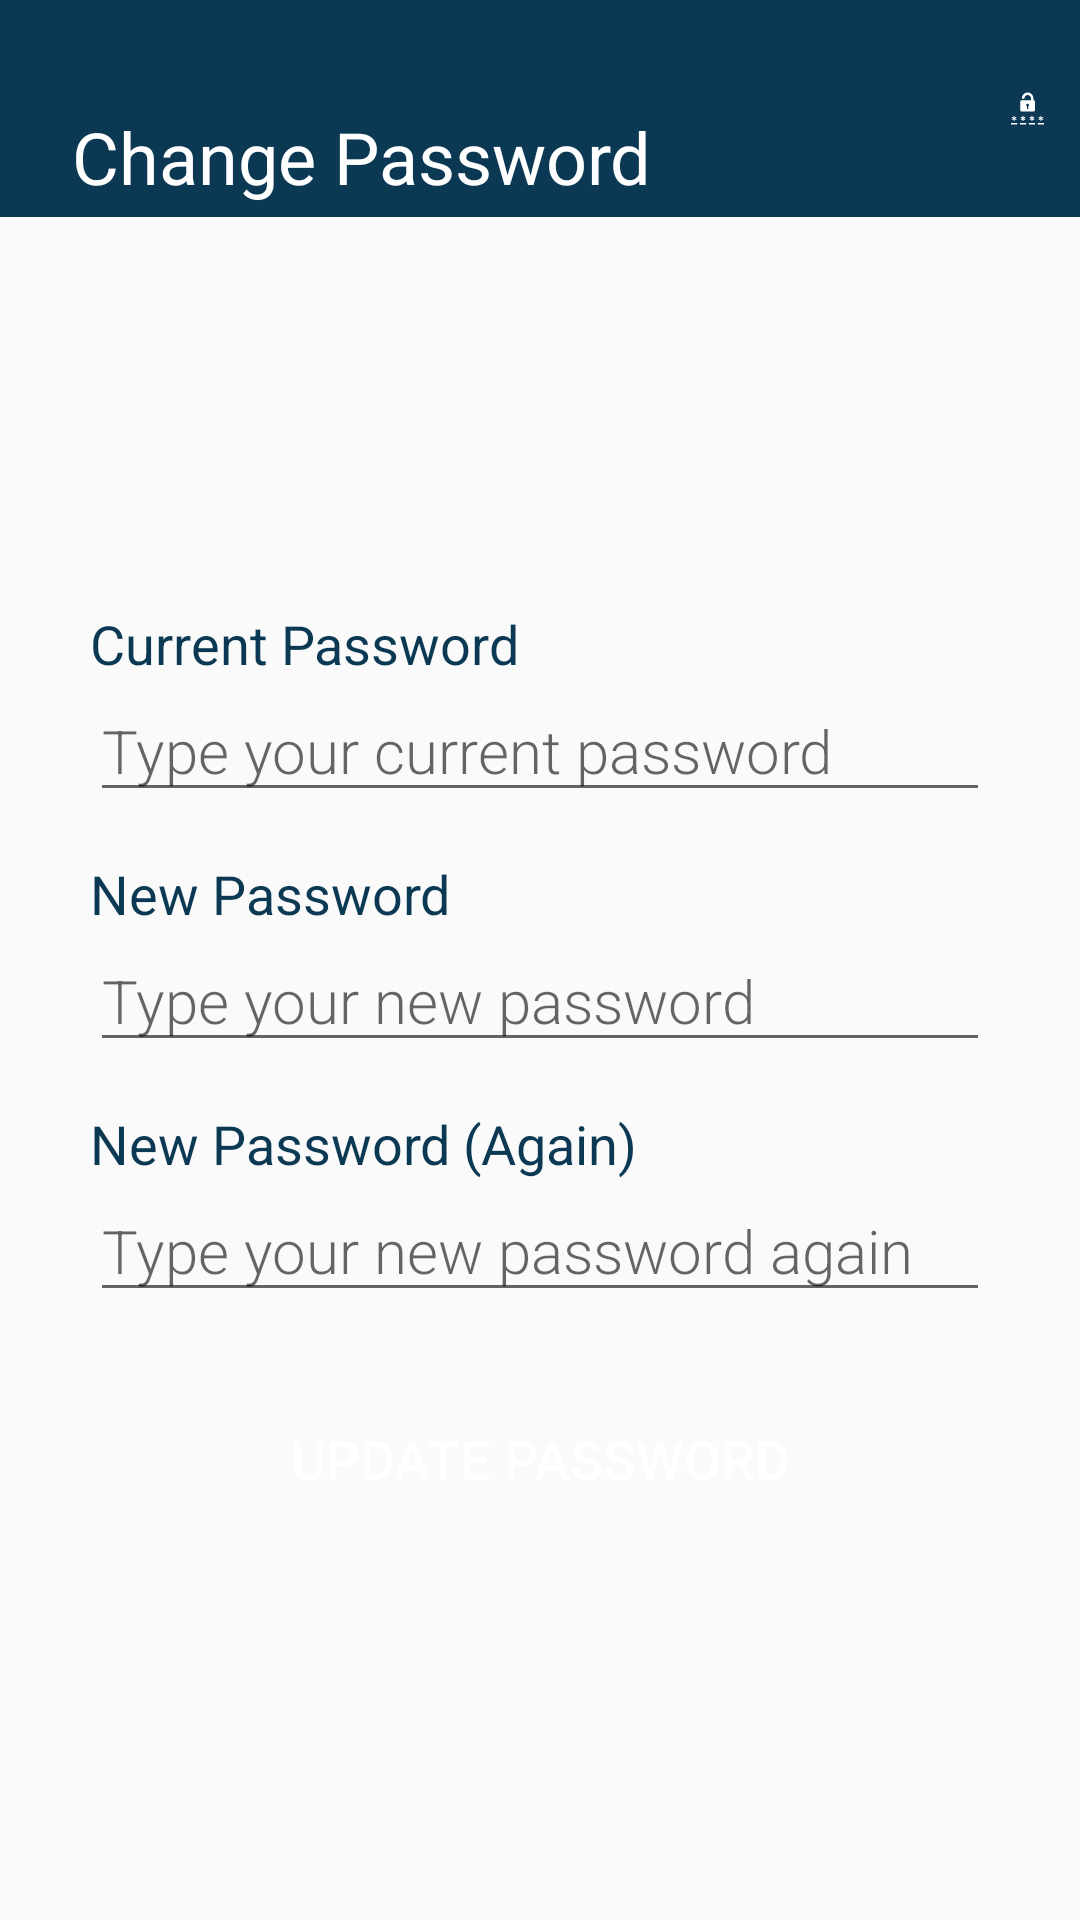

Where to tap for icons on this 1080px x 1920px app screen, as point (x, y):
password: point (1027, 108)
